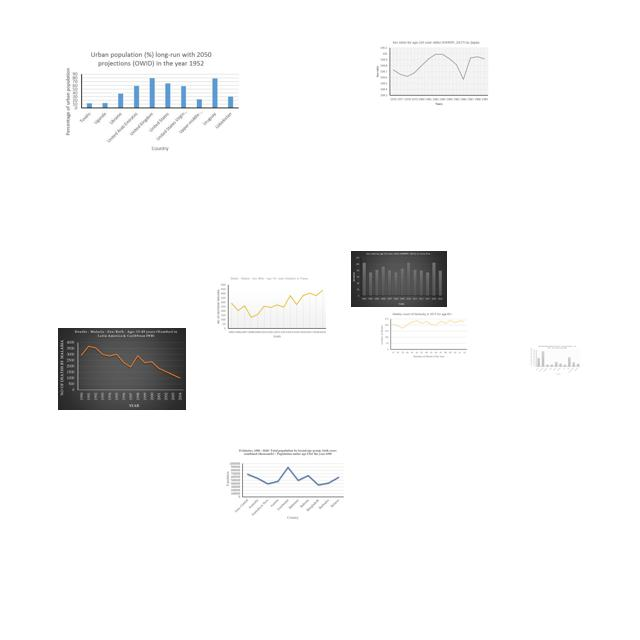Graph: (61, 49, 241, 154), (58, 328, 186, 410), (222, 447, 349, 521), (373, 39, 490, 107), (214, 275, 328, 340), (351, 251, 447, 307), (380, 311, 468, 359), (530, 345, 581, 376)
